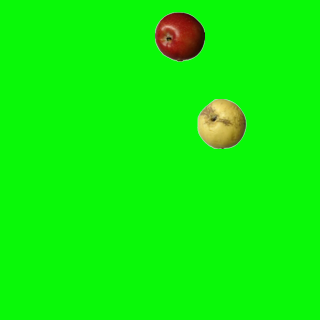Apple Braeburn: (154, 11, 204, 61)
Apple Golden 1: (196, 98, 246, 148)
